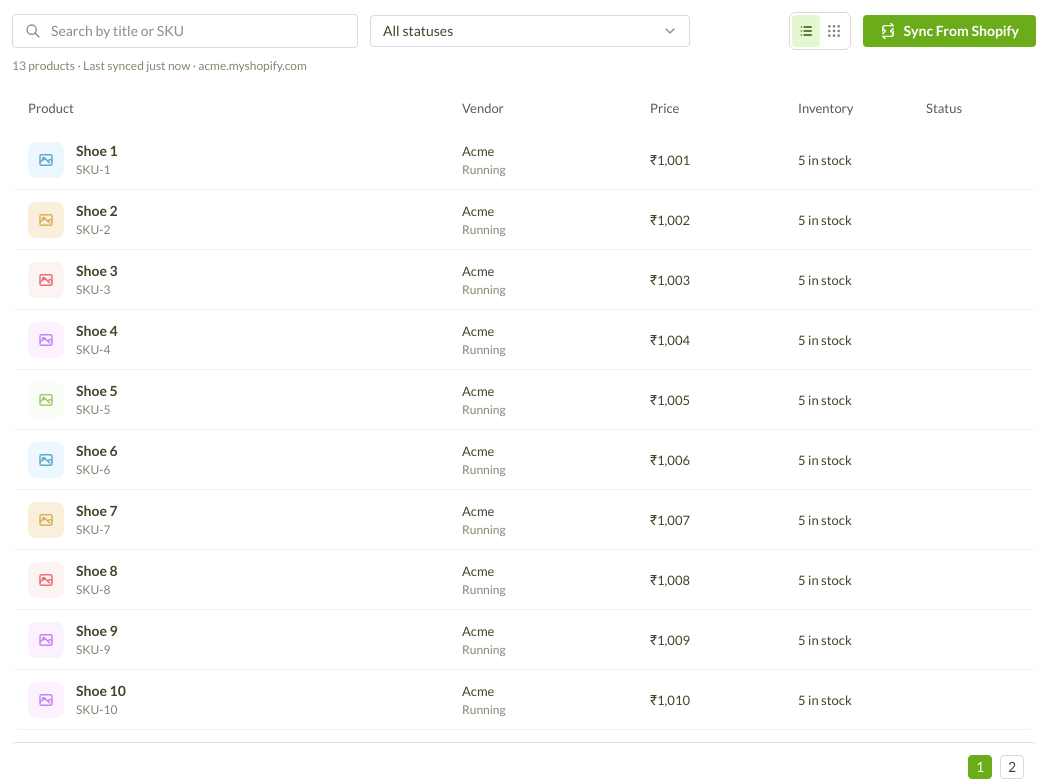
Test: CatalogTable › switches between a table and cards, keeping the search and page
Click the button "2": {"x": 1012, "y": 767} [1000,755,1024,779]
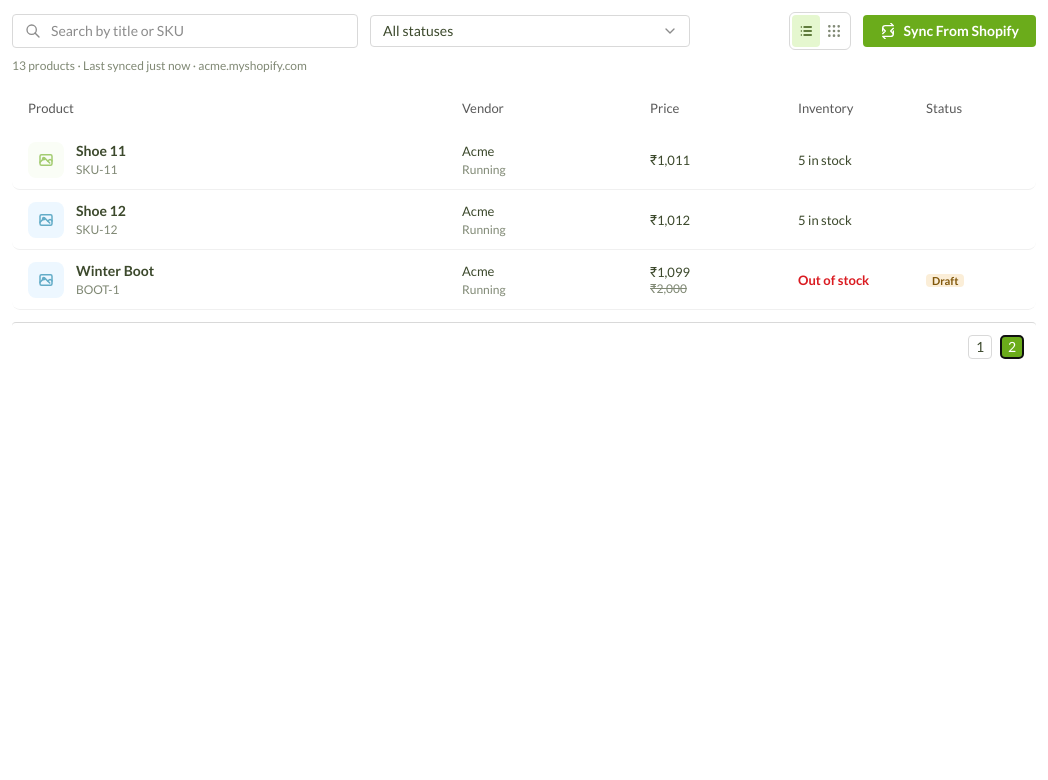
Click the button named "Card view": {"x": 834, "y": 31} [820,15,848,47]
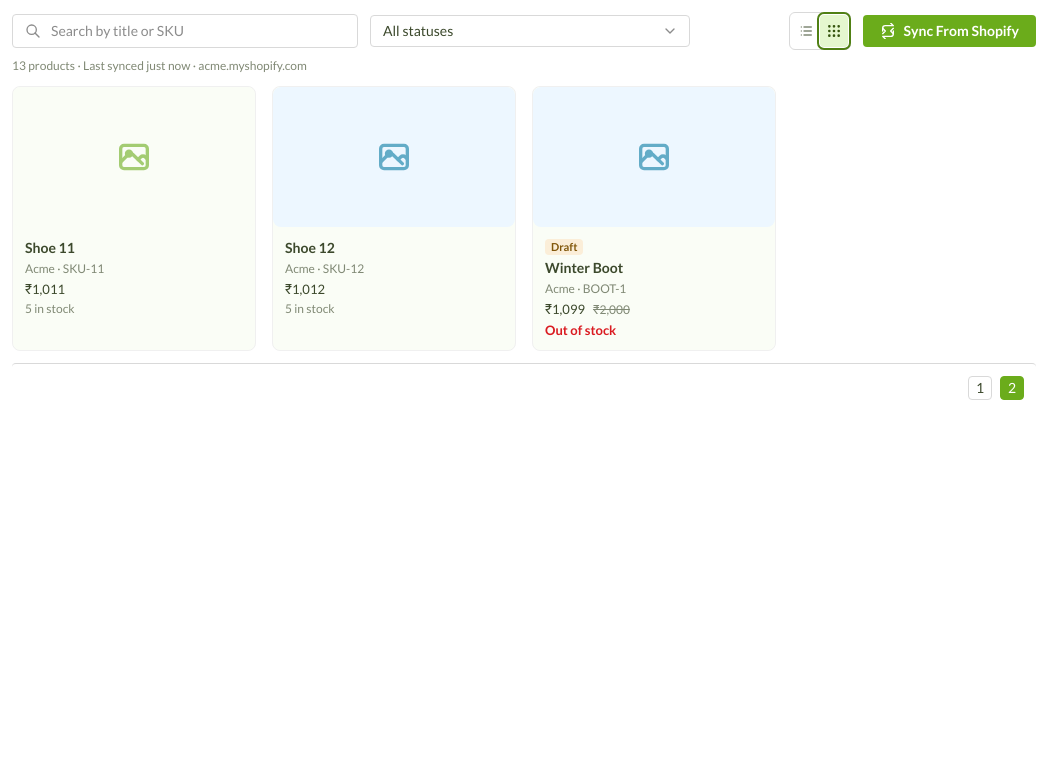
Expected: the table is gone
Expected: the number of list items is 3, [12,86,256,351]; [272,86,516,351]; [532,86,776,351]
In the search field named "Search products": {"x": 197, "y": 31} [49,20,345,42], type "zzz"
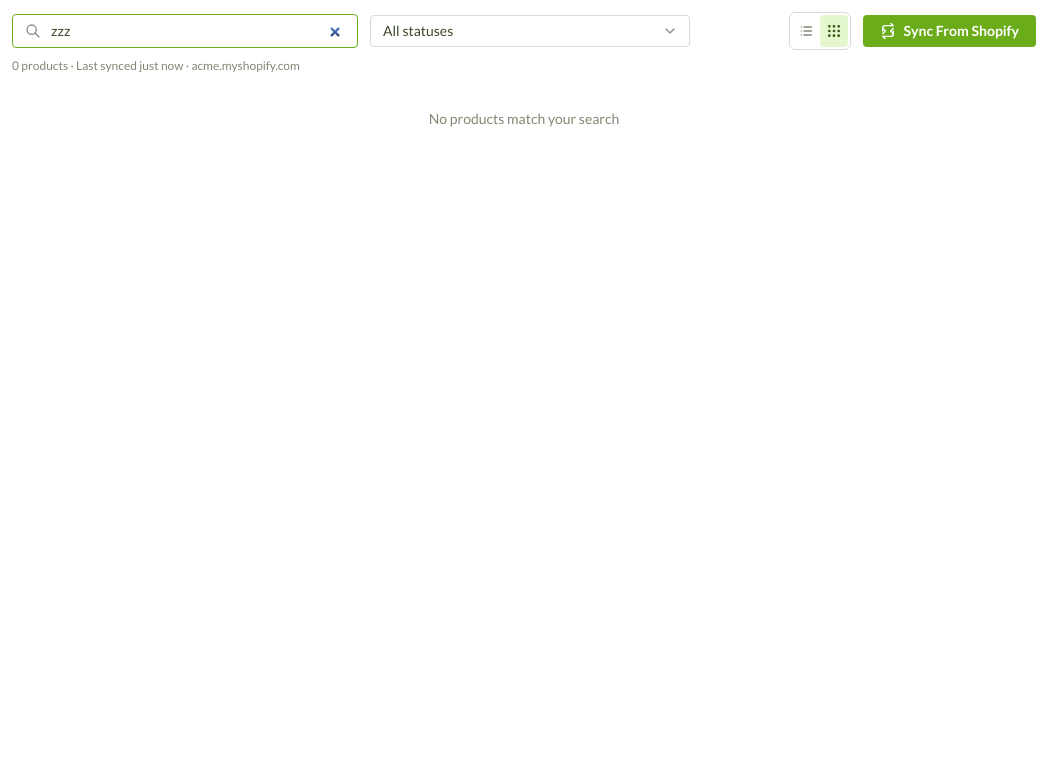
Expected: the list item "No products match your search" is shown, [429,110,619,127]
Click the button named "Table view": {"x": 806, "y": 31} [792,15,820,47]
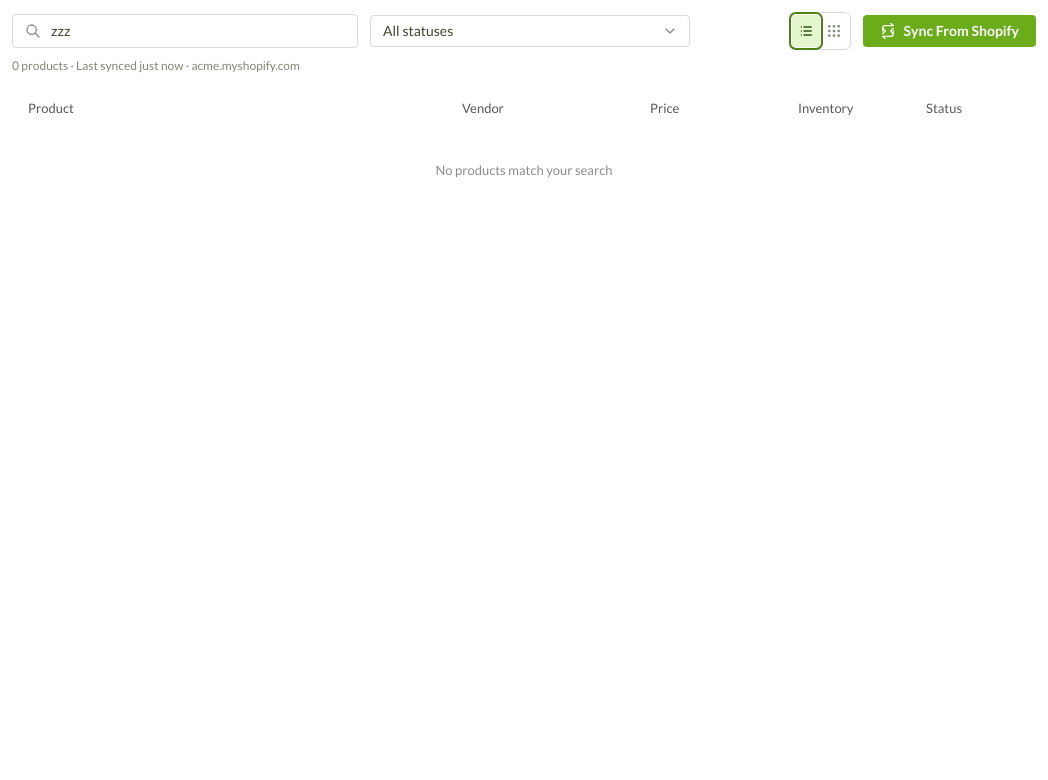
Expected: the table "products" is shown, [12,86,1036,210]
